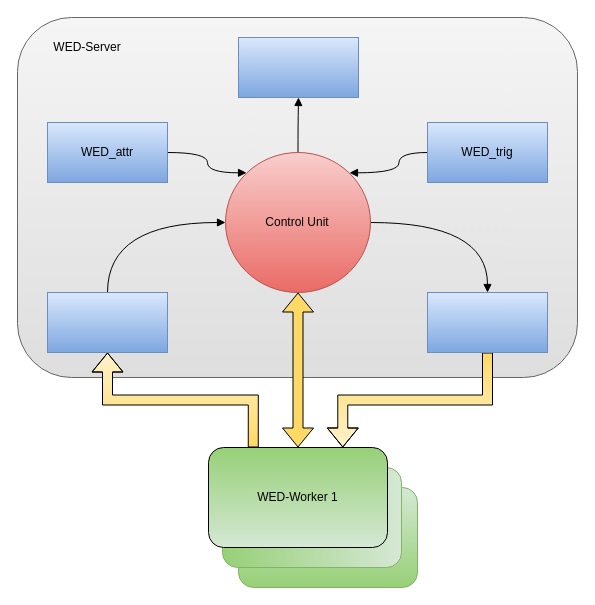
The diagram is 595 pixels wide and 605 high, and some of its shapes have lost their labels. Here are the shapes that lost their labels. From the top down, the centre of each, then its label:
[298,67]: WED_trace
[107,322]: WED_flow
[487,322]: Job_Pool
